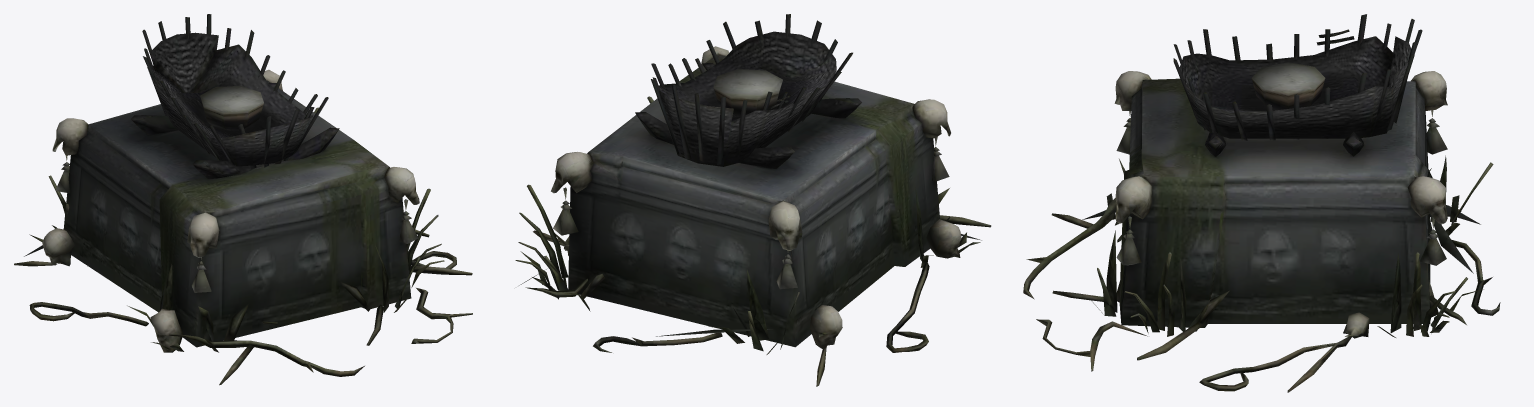
File: mire_altar.glb
3 views of the same model, side by side, from view 1: azimuth 30°, elevation 25°; view 2: azimuth 150°, elevation 25°; view 3: azimuth 270°, elevation 25° (orthographic). The views are drawn at different scales.
Visible parts, largest first — view 1: tripo_node_0615baa1-45d3-4608-9143-cb860ba76a33; view 2: tripo_node_0615baa1-45d3-4608-9143-cb860ba76a33; view 3: tripo_node_0615baa1-45d3-4608-9143-cb860ba76a33.
Boxes of the visible parts, x1,y1,x2,y2 form: tripo_node_0615baa1-45d3-4608-9143-cb860ba76a33: [14, 14, 472, 385]; tripo_node_0615baa1-45d3-4608-9143-cb860ba76a33: [515, 14, 991, 386]; tripo_node_0615baa1-45d3-4608-9143-cb860ba76a33: [1023, 14, 1500, 392].
Bounding box in the file's own units: 0.9825 × 0.5684 × 0.998.
Materials: 1 (1 with a texture image).
